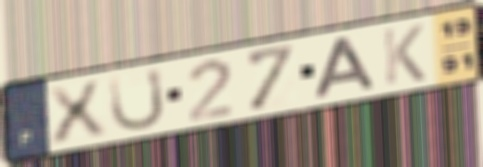2: (184, 57, 237, 125)
7: (244, 43, 300, 114)
A: (310, 34, 379, 101)
K: (379, 22, 428, 88)
U: (107, 64, 168, 134)
X: (42, 77, 111, 147)
